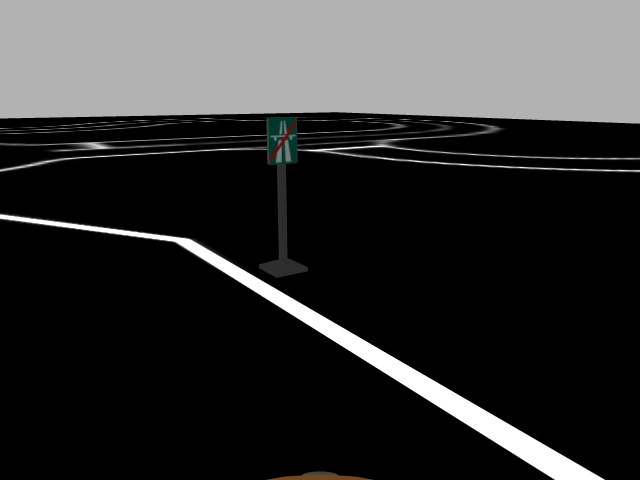leave_highway: (264, 116, 300, 165)
